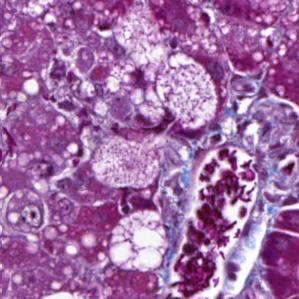ballooning: (152, 50, 221, 135), (108, 208, 171, 276), (91, 132, 163, 191)
